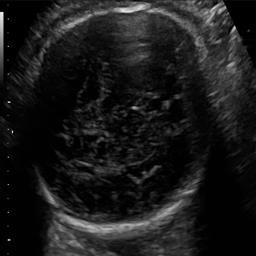normal: (26, 2, 224, 238)
